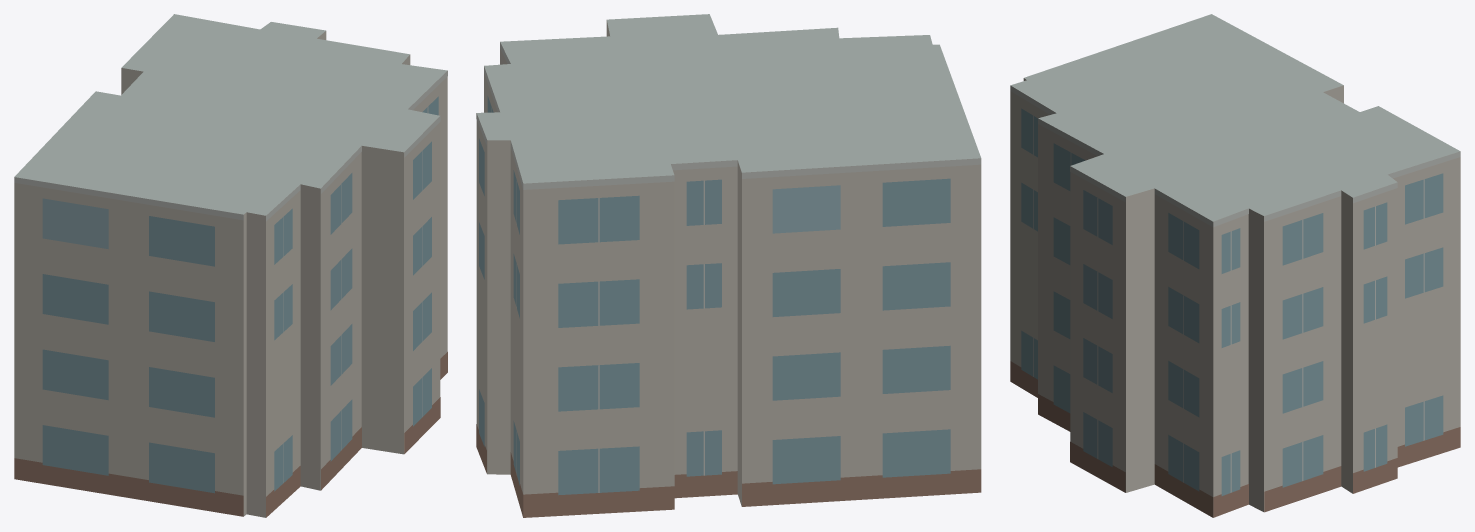
The model's file is survey-upis-32672077.glb.
3 views of the same model, side by side, from view 1: azimuth 30°, elevation 25°; view 2: azimuth 150°, elevation 25°; view 3: azimuth 270°, elevation 25° (orthographic). The views are drawn at different scales.
Visible parts, largest first — view 1: survey-upis-32672077.tmp; view 2: survey-upis-32672077.tmp; view 3: survey-upis-32672077.tmp.
Part boxes in pixels (x1,y1,x2,y2): survey-upis-32672077.tmp: (14, 14, 447, 517); survey-upis-32672077.tmp: (476, 14, 981, 517); survey-upis-32672077.tmp: (1010, 14, 1460, 517).
Size of the model in its own units: 19.26 by 12.8 by 17.65.
